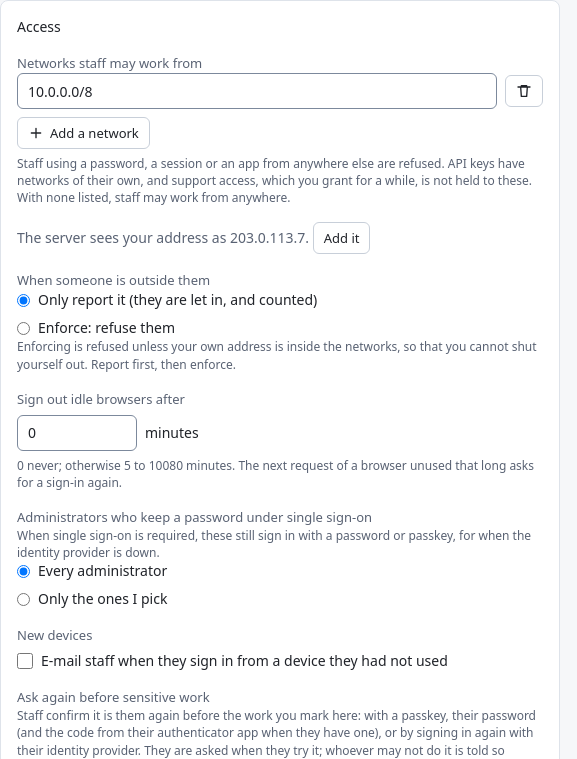
Test case: the access settings › shows the lock-out refusal by the list
The image size is (577, 759).
Click the radio button named "net-mode". click: {"x": 24, "y": 328}
box: 17,322 -> 30,335
(page scrolled)
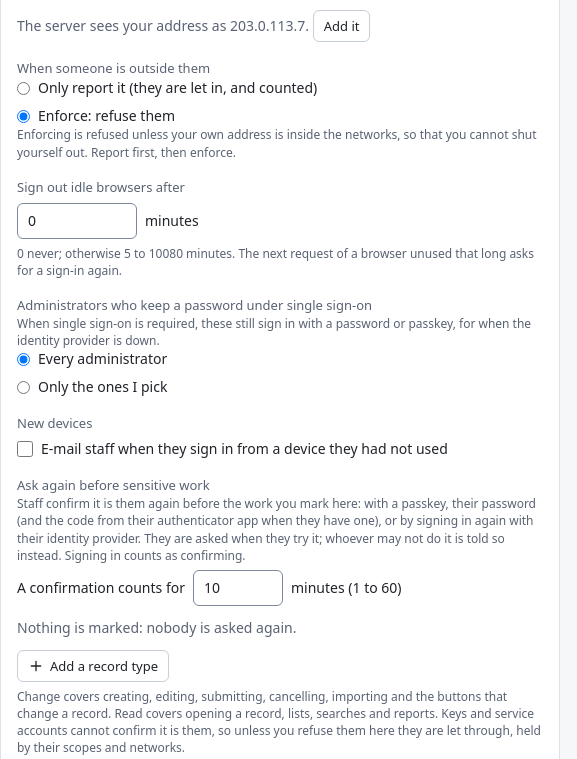
Submit the form
(page scrolled)
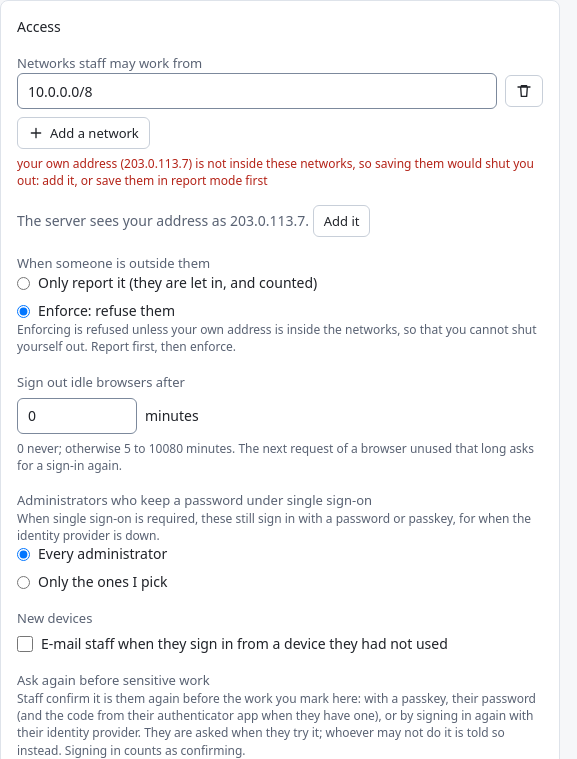
Expected: the message with class "field-error" shows "your own address (203.0.113.7) is not inside these networks, so saving them would shut you out: add it, or save them in report mode first", 17,155 -> 534,189
